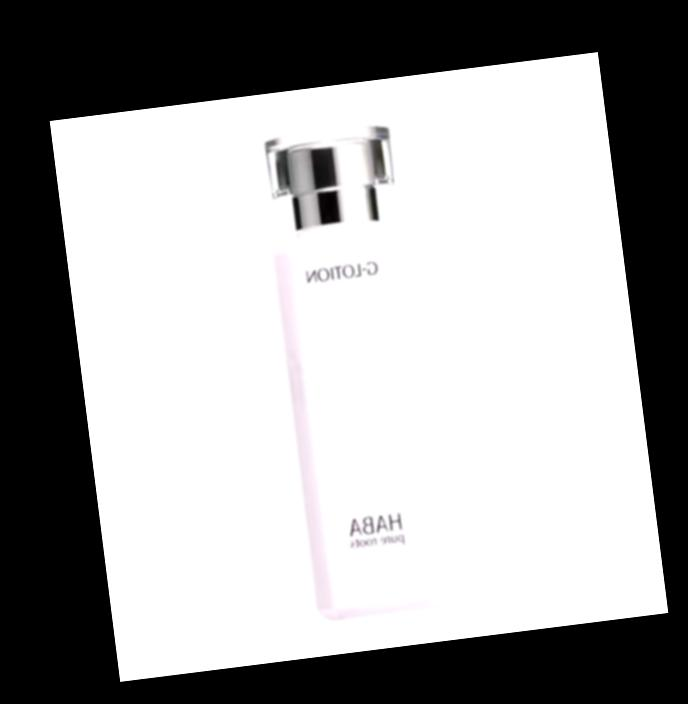cosmetic: (255, 122, 454, 621)
